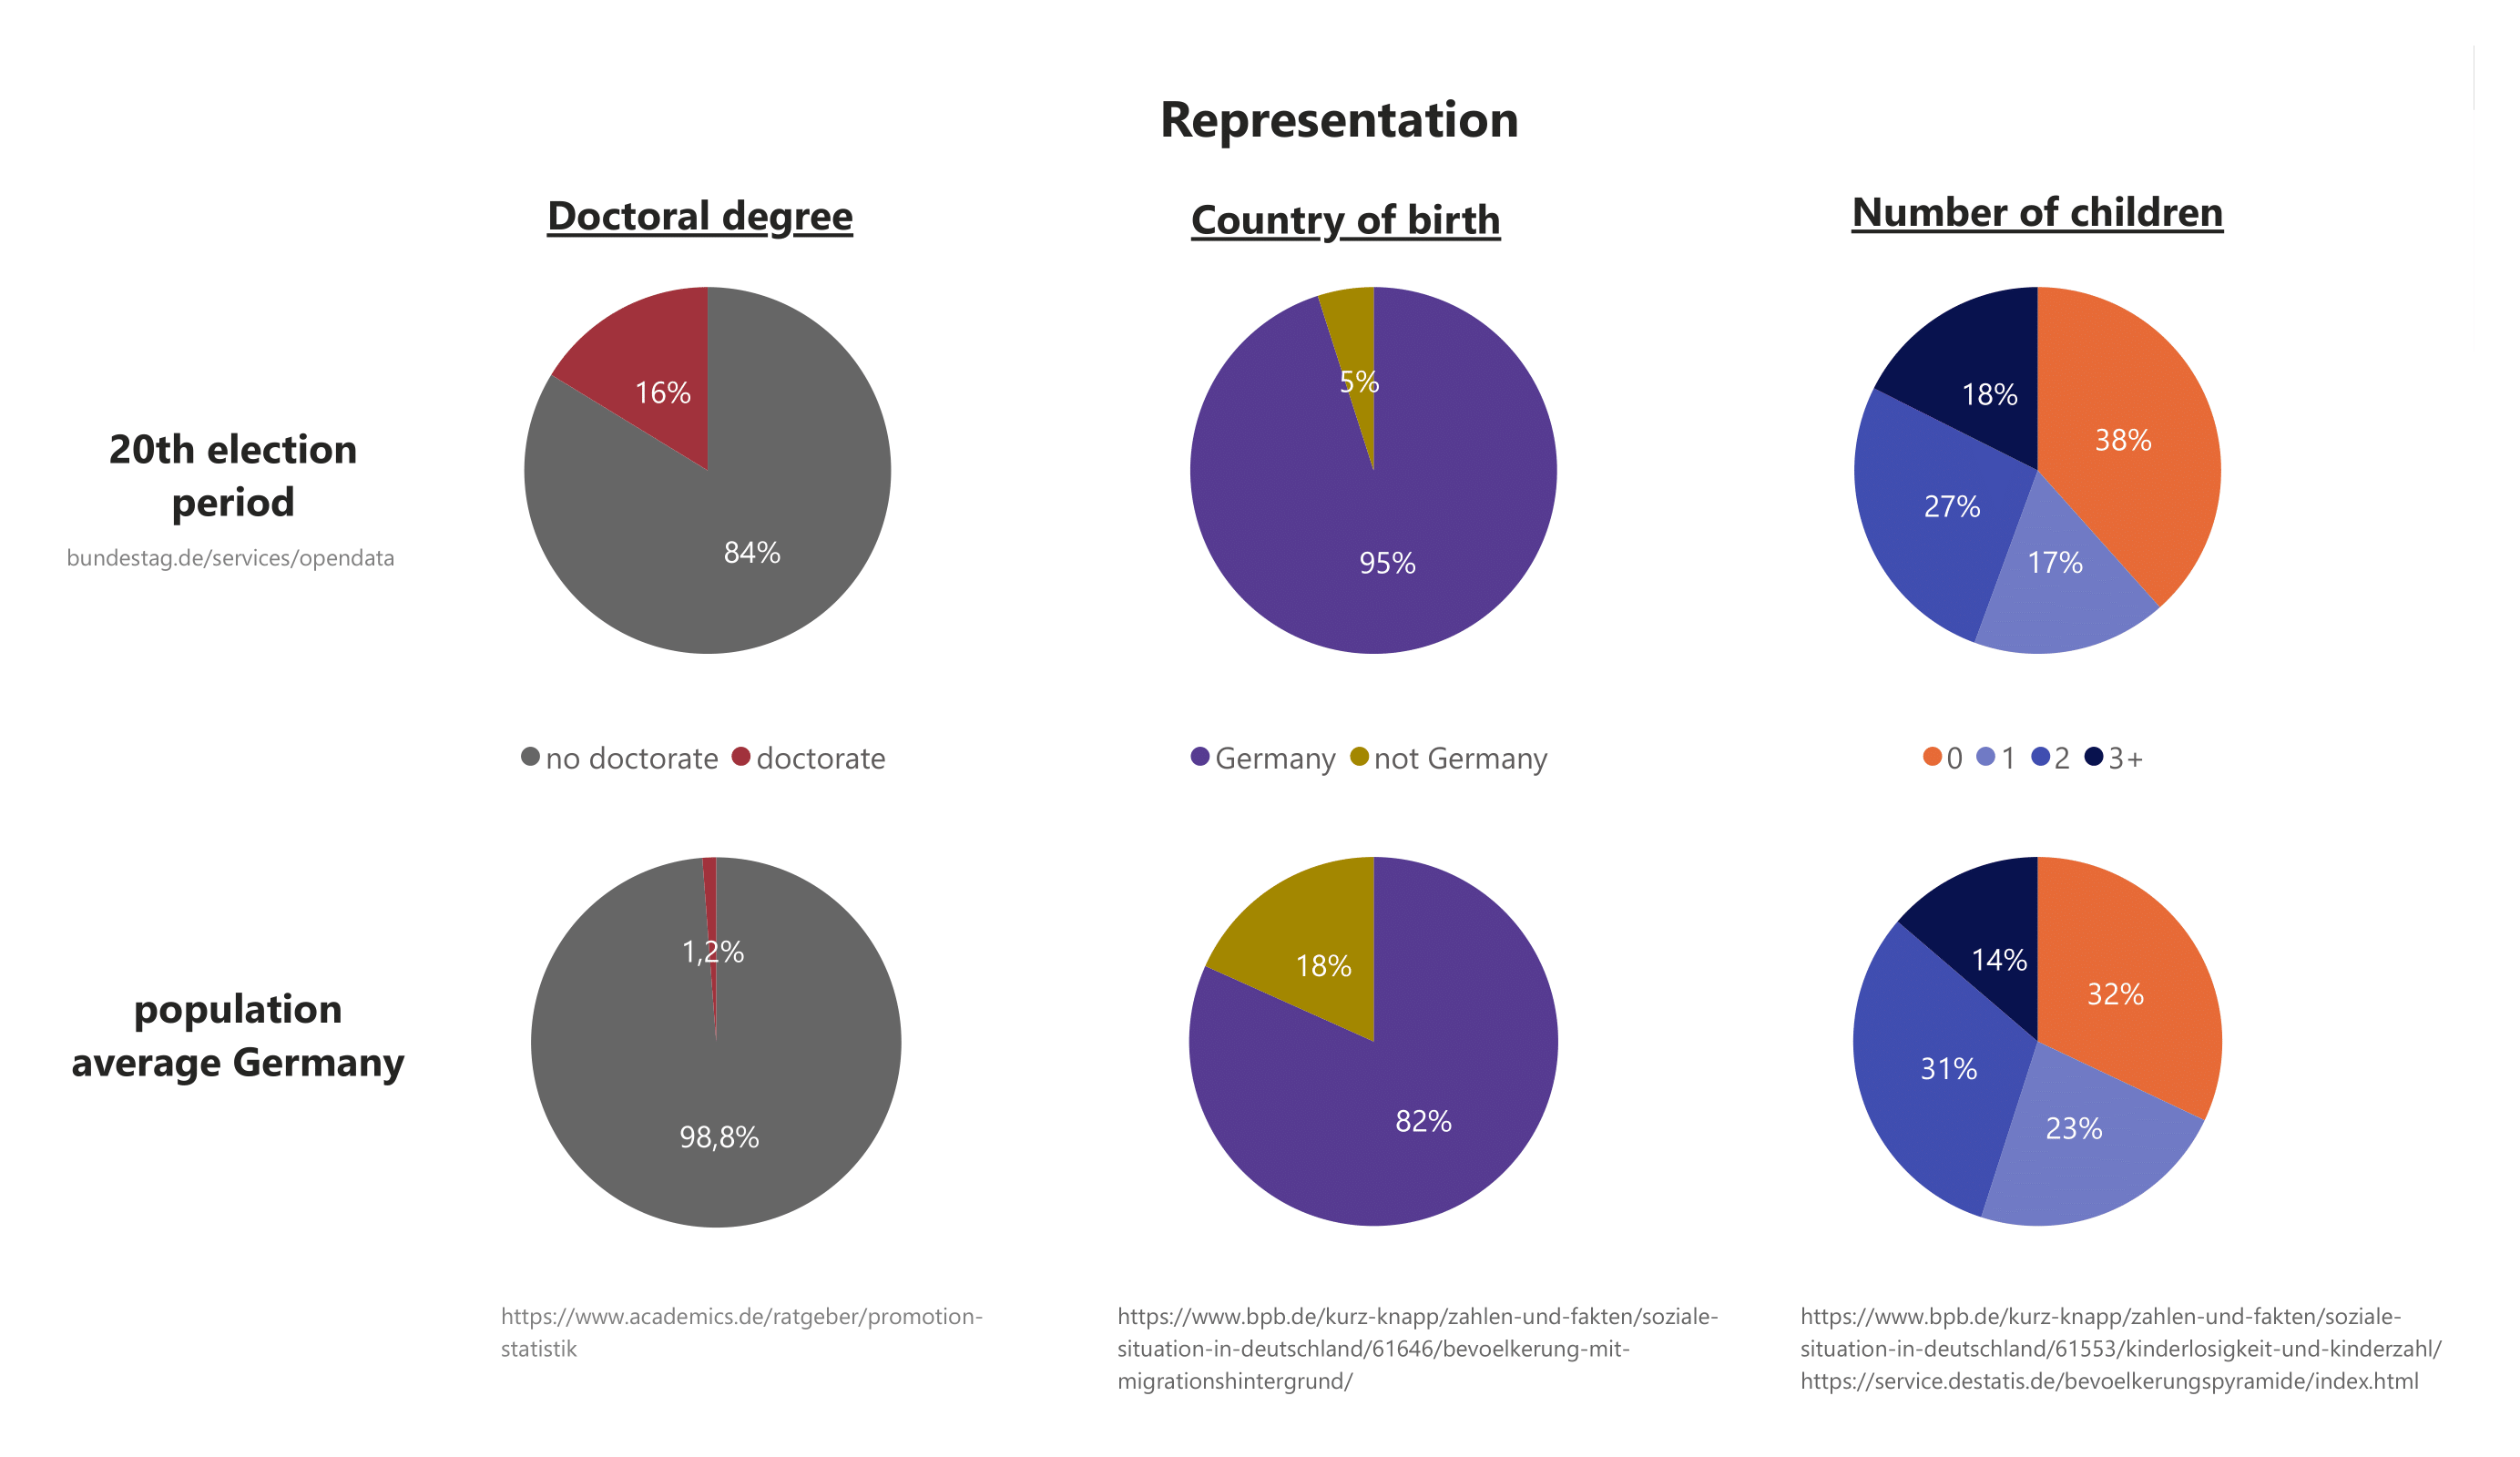

Layout of this report page (visuals, bound fields, positions):
{"tool":"powerbi","page":{"name":"Representation","canvas":[1280,720],"ordinal":2},"visuals":[{"type":"textbox","box":[515.5,14.4,332.6,49],"z":0},{"type":"textbox","box":[916.7,66.7,266.7,58.3],"z":1000},{"type":"pieChart","fields":{"Category":["benchmark_dr.Column1"],"Y":["Sum(benchmark_dr.Hat)"]},"box":[180,380.2,347,290.9],"z":2000},{"type":"pieChart","fields":{"Category":["public dim_person.Hat_Dr"],"Y":["Count(public fct_mdb.id)"]},"box":[164.3,85.4,370,310],"z":3000},{"type":"textbox","box":[235,655,280,48.3],"z":4000},{"type":"pieChart","fields":{"Y":["Sum(benchmark_d.Column2)"],"Category":["benchmark_d.Column1"]},"box":[526.7,380,346.7,290],"z":5000},{"type":"pieChart","fields":{"Category":["public dim_birthplace.In_D_geb"],"Y":["Count(public fct_mdb.id)"]},"box":[514.6,85.4,370,310],"z":6000},{"type":"textbox","box":[560,655,343.3,61.7],"z":7000},{"type":"textbox","box":[920,655,360,61.7],"z":8000},{"type":"pieChart","fields":{"Y":["Count(public fct_mdb.id)"],"Category":["public dim_person.numer_of_children_groups"]},"box":[865,85,370,310],"z":9000},{"type":"pieChart","fields":{"Category":["benchmark_children.Column1"],"Y":["Sum(benchmark_children.Column2)"]},"box":[876.7,380,346.7,290],"z":10000},{"type":"textbox","box":[528.8,71.2,313.6,53],"z":11000},{"type":"textbox","box":[213.1,69.1,263.5,54.7],"z":12000},{"type":"textbox","box":[21.2,192.4,156.1,77.3],"z":13000},{"type":"textbox","box":[0,486.7,203,76.3],"z":14000},{"type":"textbox","box":[5.8,254.9,207.4,50.4],"z":15000}]}

Visuals, with their boxes in screenshot pixels (x1, y1, x2, y2):
textbox: l=1024, t=73, r=1655, b=166
textbox: l=1785, t=172, r=2291, b=282
pieChart - benchmark_dr.Column1 x Sum(benchmark_dr.Hat): l=387, t=767, r=1046, b=1319
pieChart - public dim_person.Hat_Dr x Count(public fct_mdb.id): l=357, t=208, r=1059, b=796
textbox: l=492, t=1289, r=1023, b=1380
pieChart - Sum(benchmark_d.Column2) x benchmark_d.Column1: l=1045, t=767, r=1703, b=1317
pieChart - public dim_birthplace.In_D_geb x Count(public fct_mdb.id): l=1022, t=208, r=1724, b=796
textbox: l=1108, t=1289, r=1760, b=1405
textbox: l=1791, t=1289, r=2474, b=1405
pieChart - Count(public fct_mdb.id) x public dim_person.numer_of_children_groups: l=1687, t=207, r=2389, b=795
pieChart - benchmark_children.Column1 x Sum(benchmark_children.Column2): l=1709, t=767, r=2367, b=1317
textbox: l=1049, t=180, r=1644, b=281
textbox: l=450, t=177, r=950, b=280
textbox: l=86, t=411, r=382, b=557
textbox: l=46, t=969, r=431, b=1114
textbox: l=56, t=529, r=450, b=625
